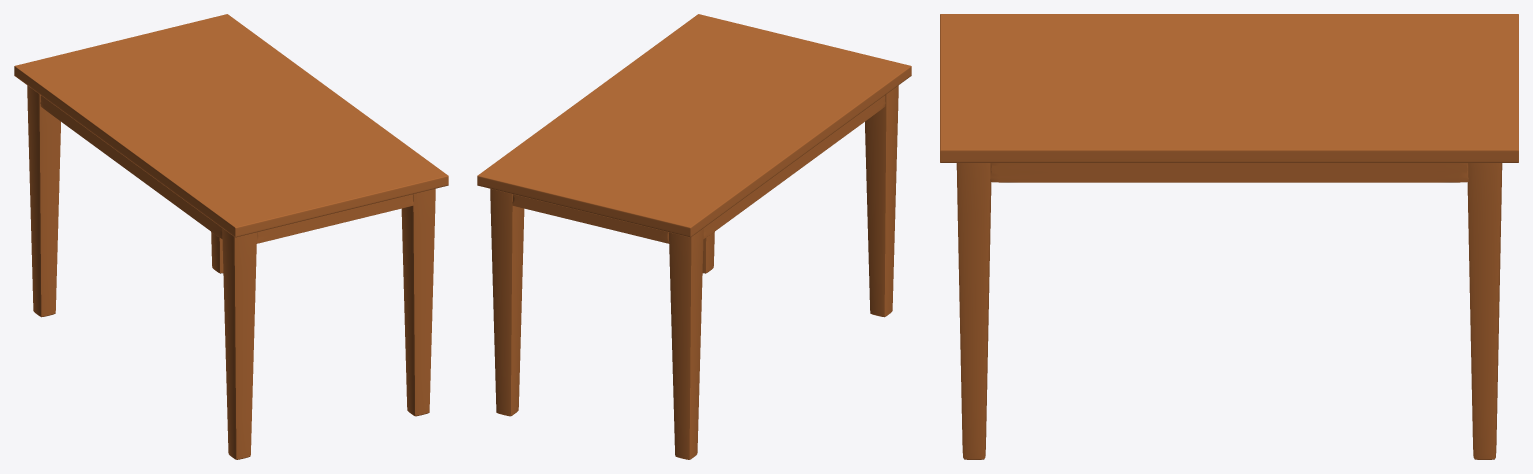
File: table.fbx
3 renders of one model, left to right at view 1: azimuth 30°, elevation 25°; view 2: azimuth 150°, elevation 25°; view 3: azimuth 270°, elevation 25°, orthographic. The views are drawn at different scales.
Parts seen in each view (by area): view 1: chair, char_legs; view 2: chair, char_legs; view 3: chair, char_legs.
Part boxes in pixels (left/top/right/bottom): chair: left=14, top=14, right=448, bottom=243; char_legs: left=27, top=85, right=435, bottom=459; chair: left=477, top=14, right=911, bottom=243; char_legs: left=490, top=85, right=898, bottom=459; chair: left=940, top=14, right=1518, bottom=182; char_legs: left=956, top=163, right=1502, bottom=459.
Size of the model in its own units: 338 by 367 by 607.
